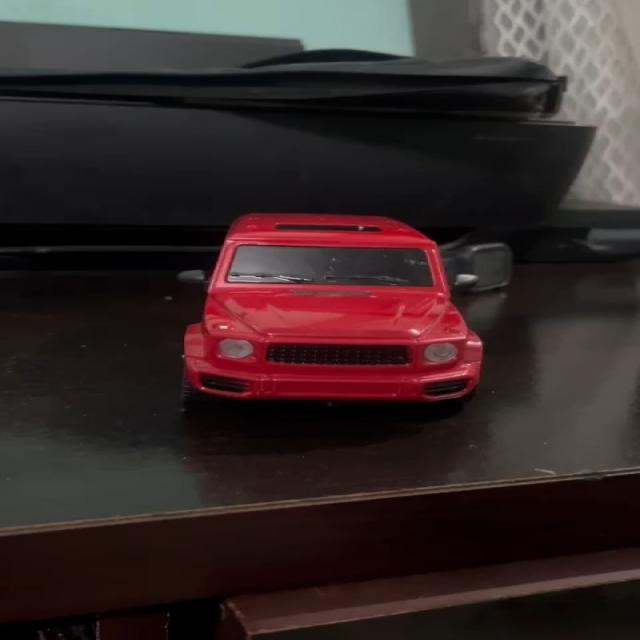light_vehicle: (188, 210, 484, 410)
